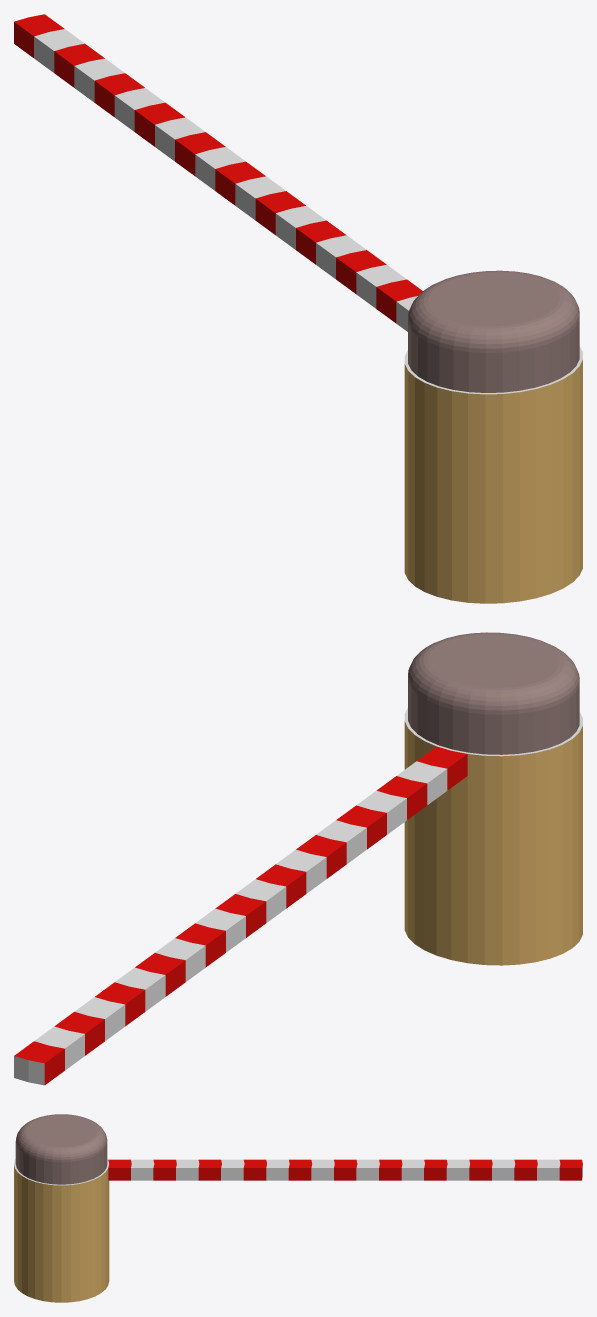
Rendered from cylinder_lev3.glb.
3 renders of one model, top to bottom at view 1: azimuth 30°, elevation 25°; view 2: azimuth 150°, elevation 25°; view 3: azimuth 270°, elevation 25°, orthographic. The views are drawn at different scales.
Visible parts, largest first — view 1: cylinder_lev3; view 2: cylinder_lev3; view 3: cylinder_lev3.
Part boxes in pixels (<box>): cylinder_lev3: <box>14,14,582,603</box>; cylinder_lev3: <box>14,632,582,1085</box>; cylinder_lev3: <box>14,1114,582,1302</box>.
Size of the model in its own units: 0.6805 by 1.1 by 3.79.
